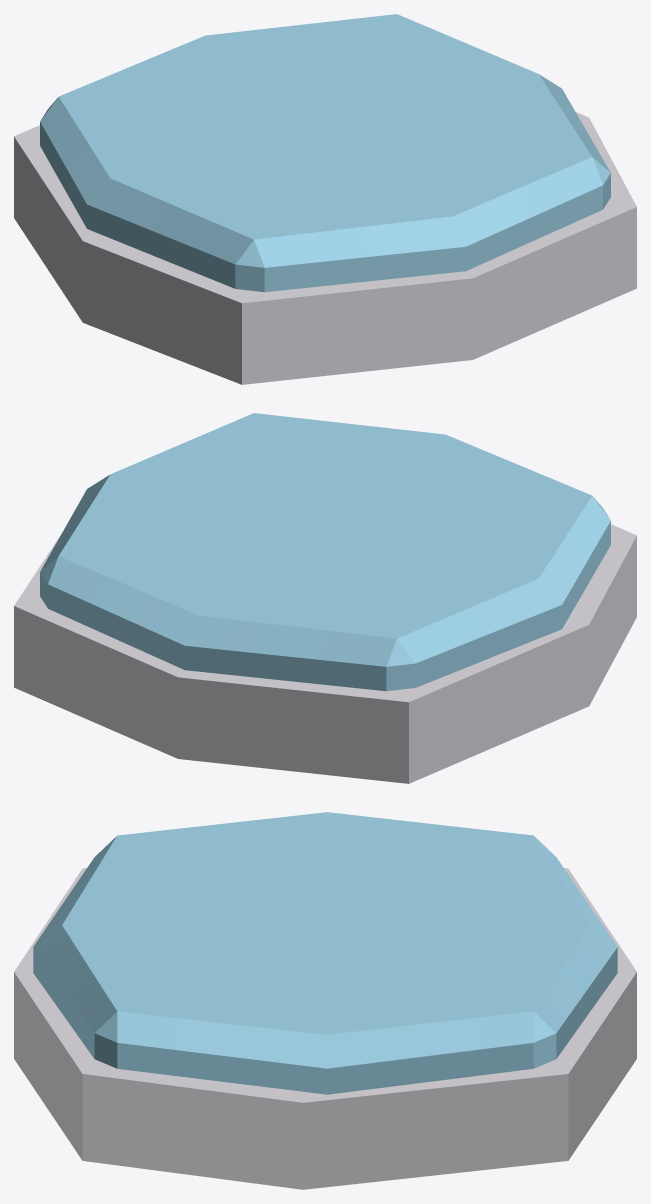
Rendered from weight-plate-blue-idleDOWN.fbx.
3 renders of one model, top to bottom at view 1: azimuth 30°, elevation 25°; view 2: azimuth 150°, elevation 25°; view 3: azimuth 270°, elevation 25°, orthographic. The views are drawn at different scales.
Parts seen in each view (by area): view 1: weight_plate, weight_plate_base; view 2: weight_plate, weight_plate_base; view 3: weight_plate, weight_plate_base.
Part boxes in pixels (left/top/right/bottom): weight_plate: left=40, top=14, right=610, bottom=292; weight_plate_base: left=14, top=112, right=636, bottom=384; weight_plate: left=40, top=413, right=610, bottom=691; weight_plate_base: left=14, top=524, right=636, bottom=783; weight_plate: left=33, top=812, right=617, bottom=1094; weight_plate_base: left=14, top=868, right=636, bottom=1189.
Bounding box in the file's own units: 4.1 × 0.9786 × 4.1.
Materials: 2 (2 with a texture image).
